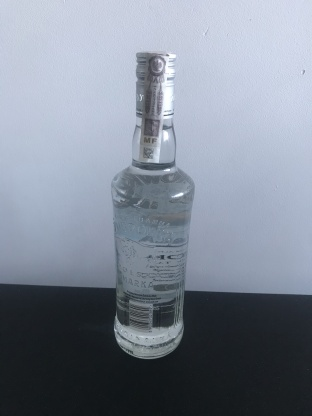nakretka: (132, 48, 177, 121)
